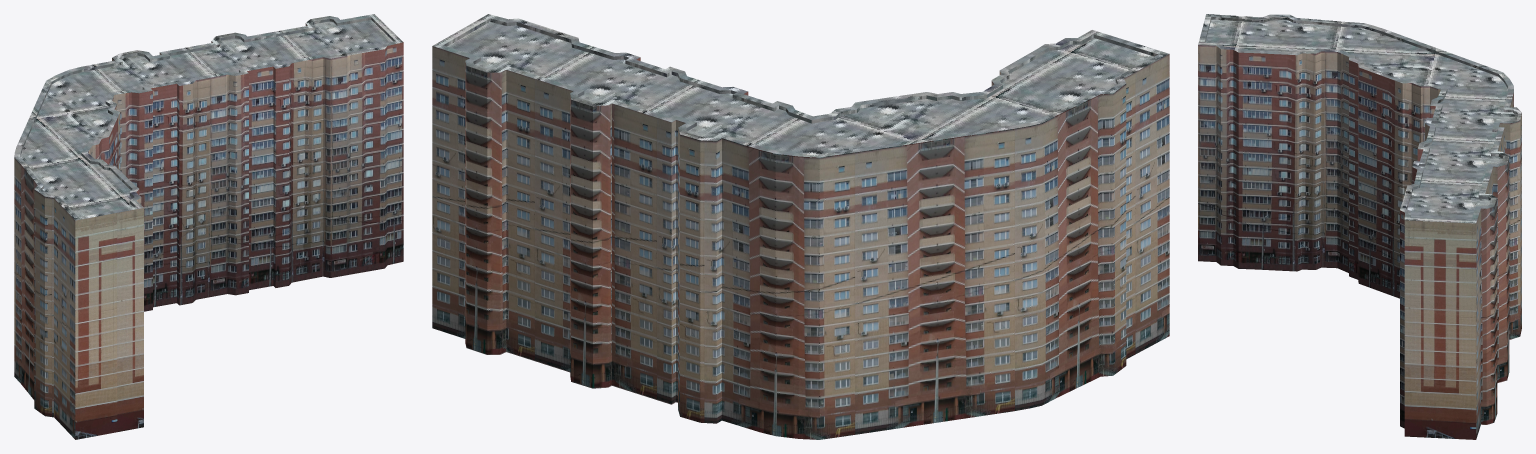
3 views of the same model, side by side, from view 1: azimuth 30°, elevation 25°; view 2: azimuth 150°, elevation 25°; view 3: azimuth 270°, elevation 25° (orthographic). The views are drawn at different scales.
Parts seen in each view (by area): view 1: Geode; view 2: Geode; view 3: Geode.
Boxes of the visible parts, bbox=[...] form: Geode: bbox=[14, 14, 403, 439]; Geode: bbox=[432, 14, 1169, 439]; Geode: bbox=[1198, 14, 1521, 439].
Size of the model in its own units: 175 by 84 by 114.
Materials: 5 (4 with a texture image).
